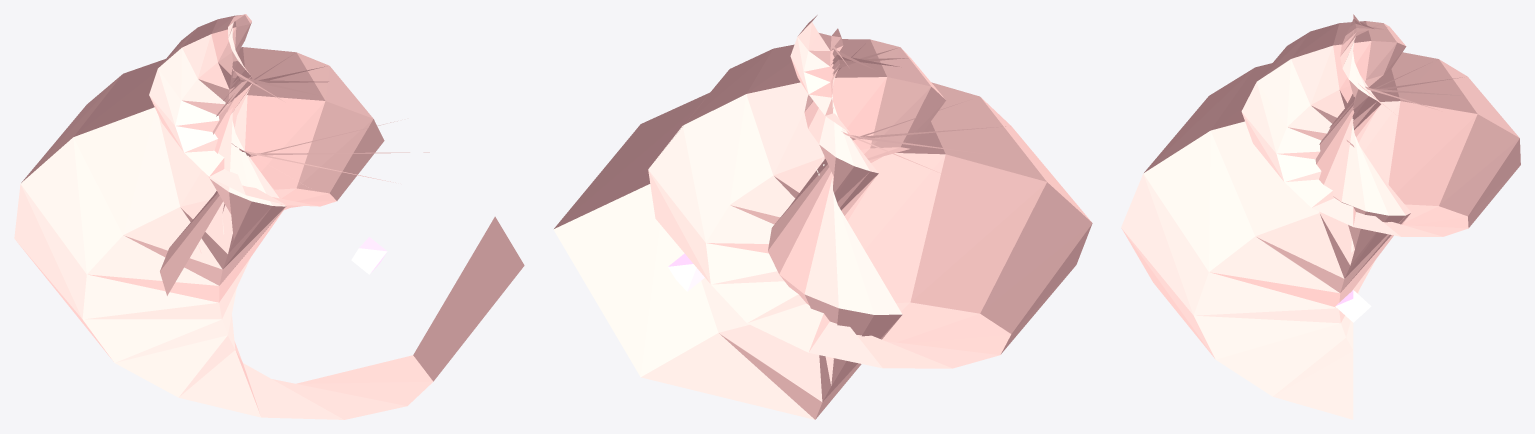
File: shell_spiral.glb
The picture shows the model from 3 angles, left to right: view 1: azimuth 30°, elevation 25°; view 2: azimuth 150°, elevation 25°; view 3: azimuth 270°, elevation 25°; orthographic projection. The views are drawn at different scales.
Parts seen in each view (by area): view 1: shell_spiral; view 2: shell_spiral; view 3: shell_spiral.
Part boxes in pixels (left/top/right/bottom): shell_spiral: left=14, top=14, right=524, bottom=419; shell_spiral: left=553, top=15, right=1092, bottom=419; shell_spiral: left=1121, top=14, right=1520, bottom=419.
Bounding box in the file's own units: 0.1524 × 0.1202 × 0.1318.
